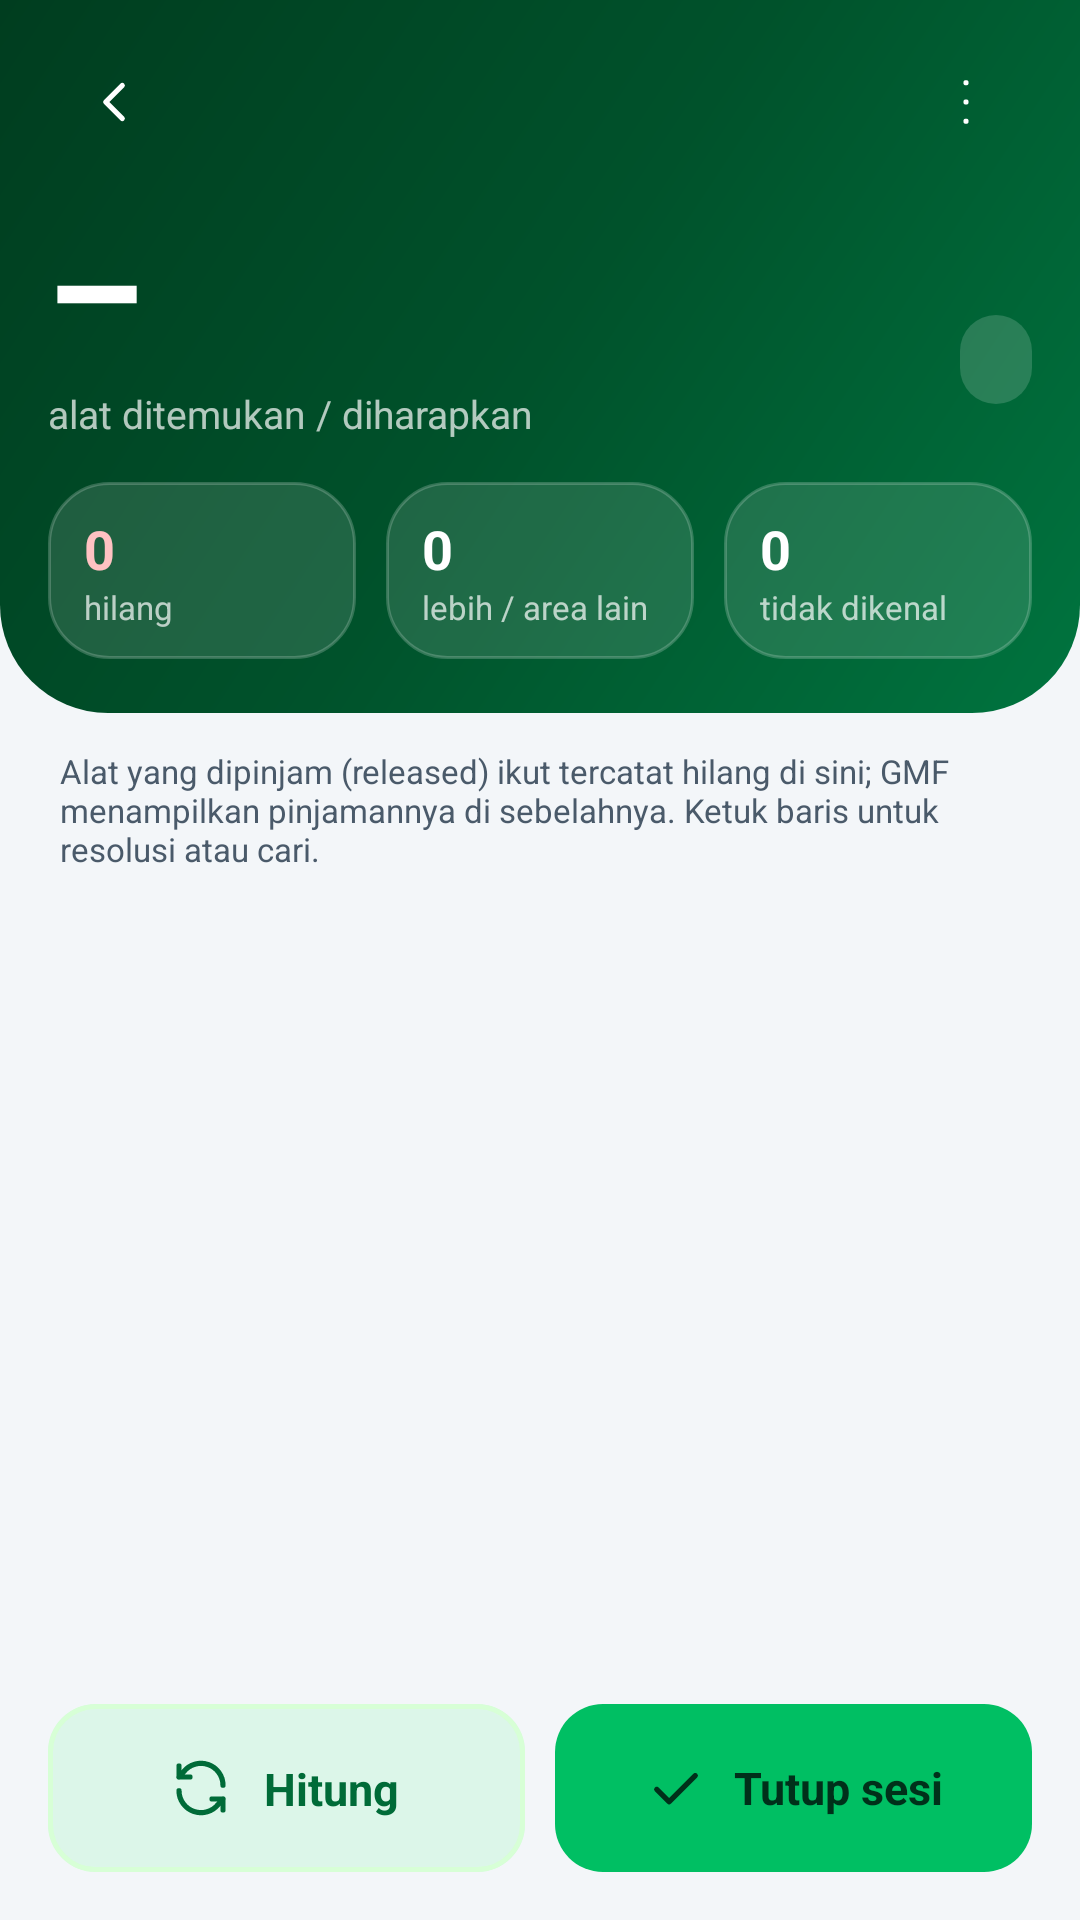

Point at icon controls on the screen. Image size 1080*1920, points as (x=x, y=y).
Kembali: (x=114, y=102)
